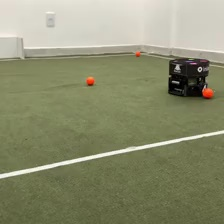ball: (201, 86, 215, 100), (84, 75, 96, 86), (134, 49, 141, 57)
goal: (1, 34, 26, 61)
robot: (167, 55, 211, 98)
